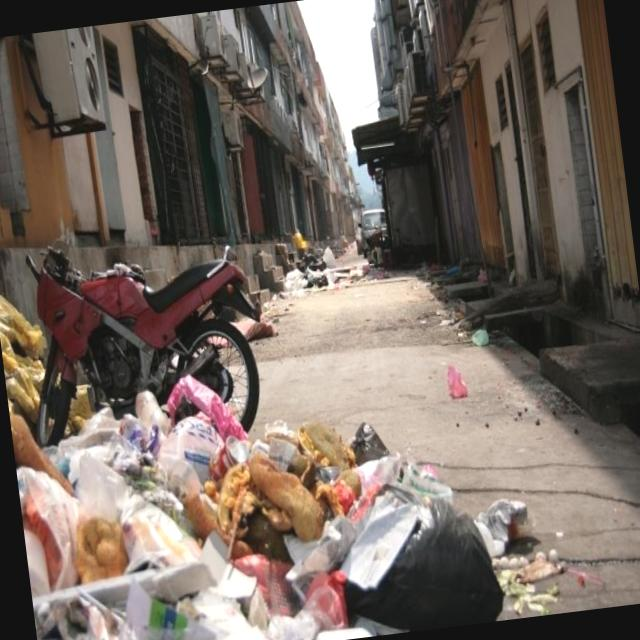garbage: (10, 376, 559, 639)
